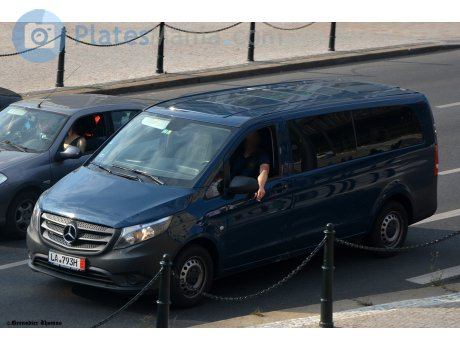License Plates: (86, 247, 130, 262), (50, 250, 81, 266)
